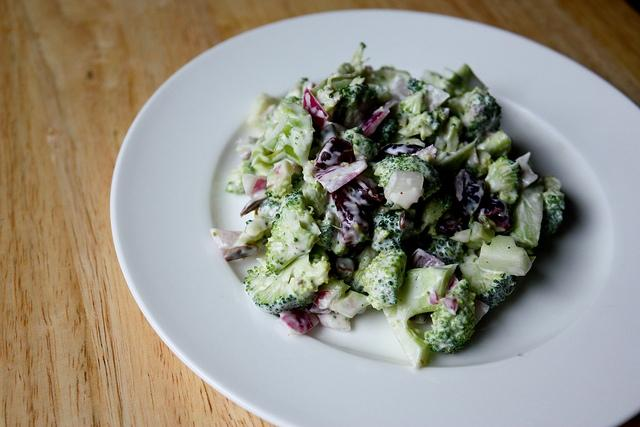broccoli: (382, 264, 458, 370), (243, 252, 332, 314), (263, 189, 322, 277), (424, 278, 477, 354), (260, 102, 316, 167), (371, 154, 442, 201), (442, 86, 502, 138), (362, 250, 408, 310), (459, 262, 518, 308), (331, 82, 384, 130), (510, 177, 544, 247), (478, 235, 532, 276), (484, 155, 523, 204), (371, 211, 414, 252), (540, 175, 566, 235), (424, 234, 465, 265), (398, 111, 440, 141), (314, 84, 343, 121), (399, 88, 428, 116)
onion: (313, 160, 368, 192), (384, 170, 424, 210), (358, 100, 398, 136), (302, 88, 328, 142), (328, 290, 370, 318), (279, 307, 319, 334), (210, 227, 242, 256), (410, 248, 446, 270), (516, 152, 538, 188), (423, 84, 450, 112), (388, 74, 414, 102), (313, 290, 339, 310), (248, 175, 268, 196), (440, 297, 458, 315), (230, 170, 244, 193), (267, 176, 281, 186), (429, 290, 438, 305)
